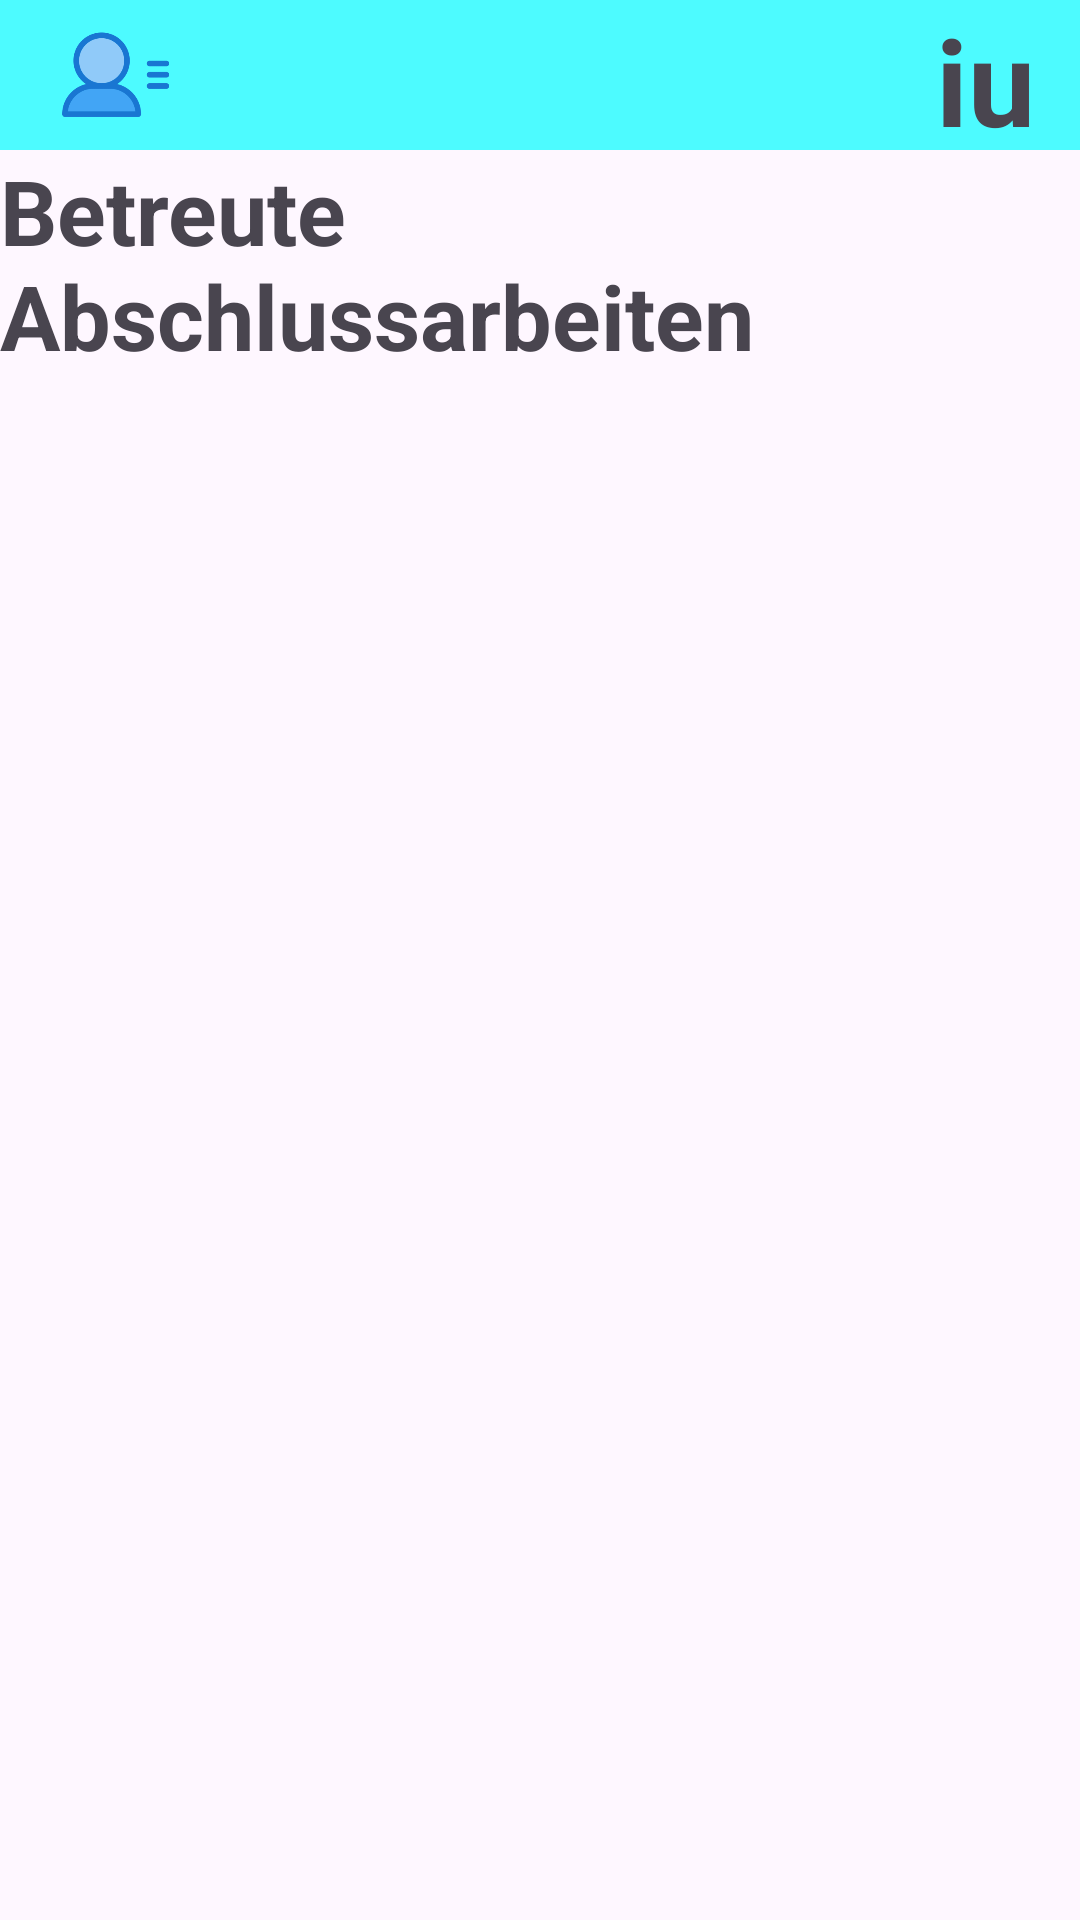

Icon click points for this 1080px×1920px phone screenshot, format (x,y):
profileimage: (115,74)
